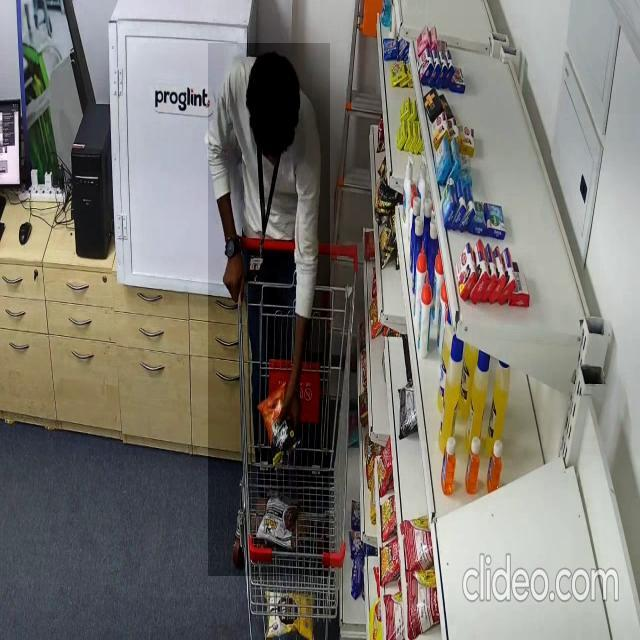normal: (209, 43, 331, 576)
